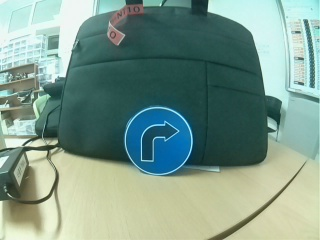right_turn: (127, 106, 191, 178)
